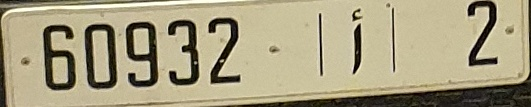0: (84, 21, 119, 91)
2: (207, 16, 243, 86), (464, 0, 501, 68)
3: (165, 17, 200, 86)
6: (41, 23, 78, 91)
9: (123, 20, 160, 88)
a: (348, 7, 364, 77)
